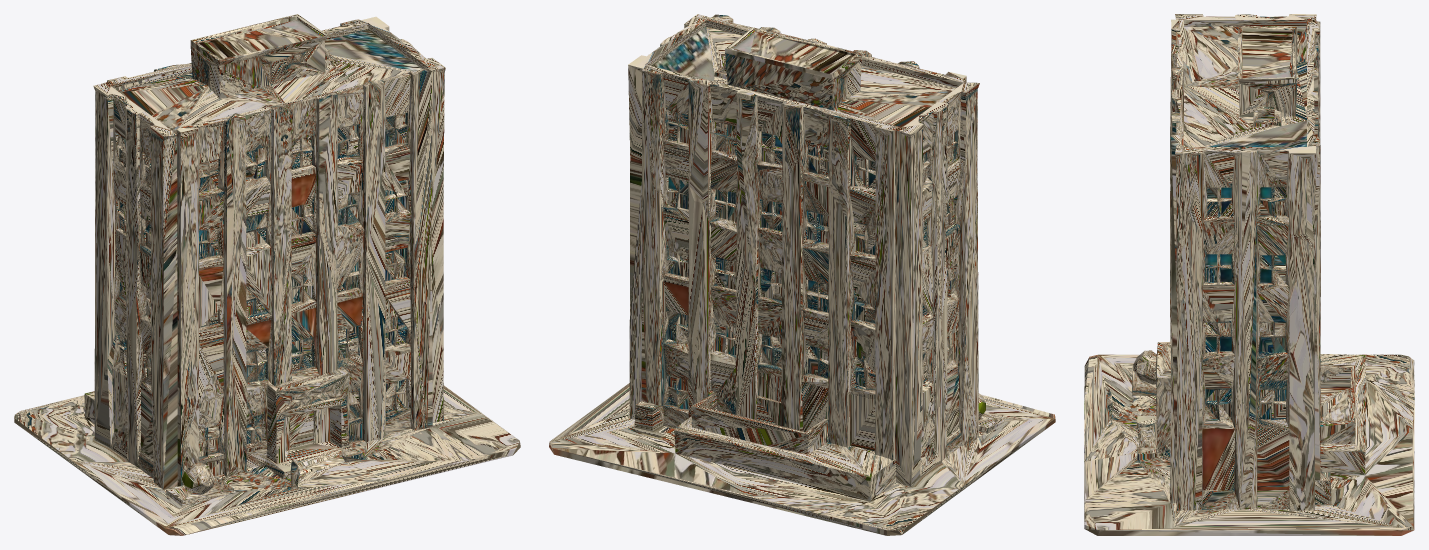
File: town_house_c.glb
The picture shows the model from 3 angles, left to right: view 1: azimuth 30°, elevation 25°; view 2: azimuth 150°, elevation 25°; view 3: azimuth 270°, elevation 25°; orthographic projection.
Parts seen in each view (by area): view 1: normalize; view 2: normalize; view 3: normalize.
Part boxes in pixels (left/top/right/bottom): normalize: left=14, top=14, right=520, bottom=535; normalize: left=549, top=14, right=1055, bottom=535; normalize: left=1084, top=14, right=1414, bottom=535.
Size of the model in its own units: 0.9999 by 1.05 by 0.7942.
1 material, 1 textured.
